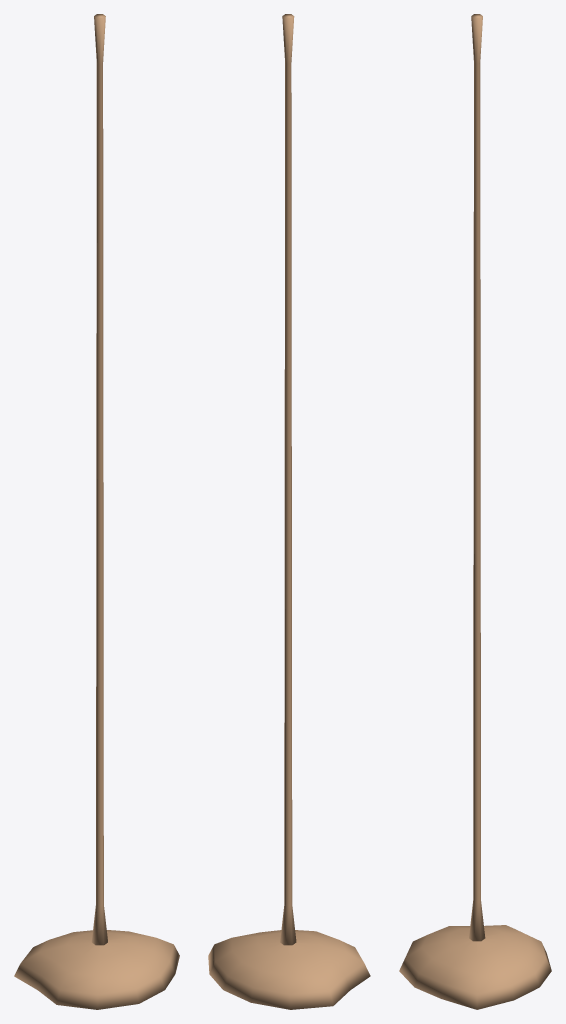
The model's file is sand_stream.glb.
3 renders of one model, left to right at view 1: azimuth 30°, elevation 25°; view 2: azimuth 150°, elevation 25°; view 3: azimuth 270°, elevation 25°, orthographic.
Parts seen in each view (by area): view 1: sand_stream; view 2: sand_stream; view 3: sand_stream.
Part boxes in pixels (left/top/right/bottom): sand_stream: left=14, top=14, right=179, bottom=1009; sand_stream: left=208, top=14, right=370, bottom=1009; sand_stream: left=399, top=14, right=551, bottom=1009.
Bounding box in the file's own units: 1.27 × 8 × 1.16.
